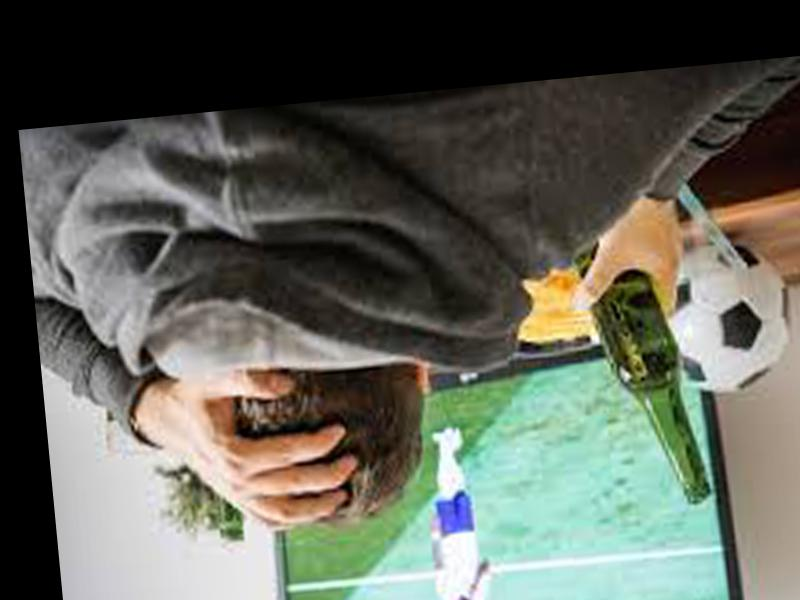Beer: (581, 227, 711, 511)
